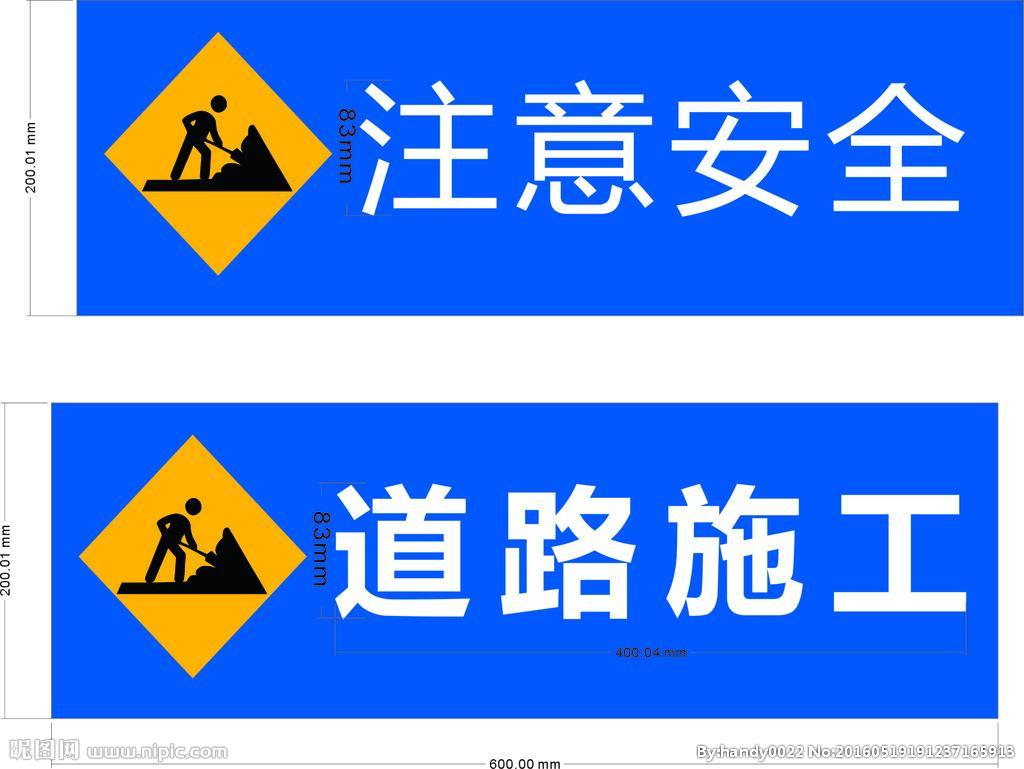sign: (79, 2, 1019, 318), (51, 406, 999, 718)
